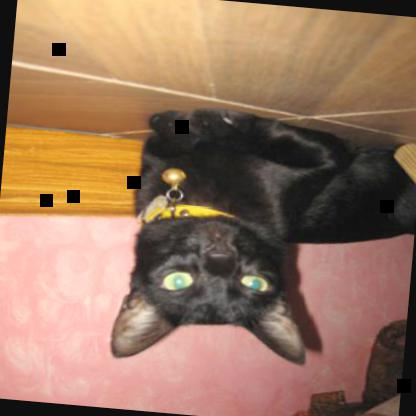cat: (109, 101, 415, 386)
